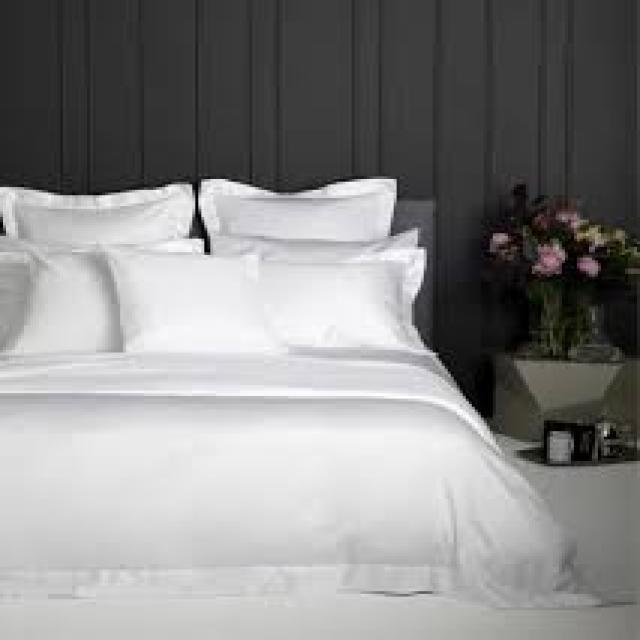bed: (0, 108, 595, 640)
